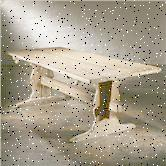Mesa: (7, 44, 163, 143)
